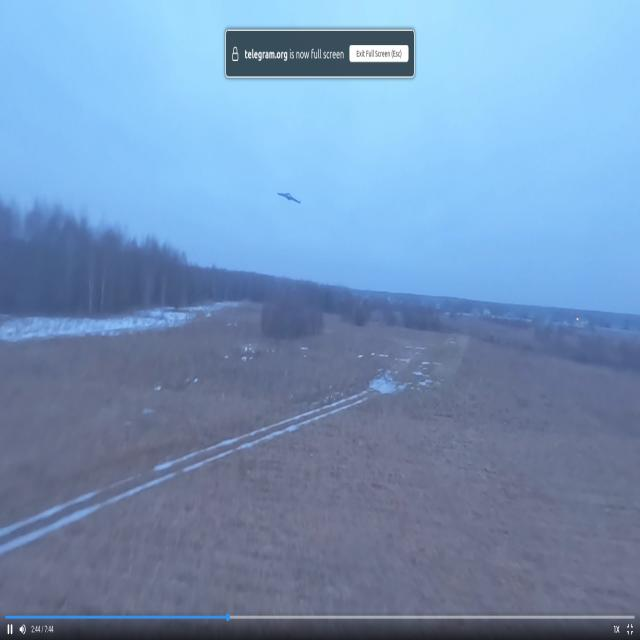planedrone: (276, 185, 303, 209)
